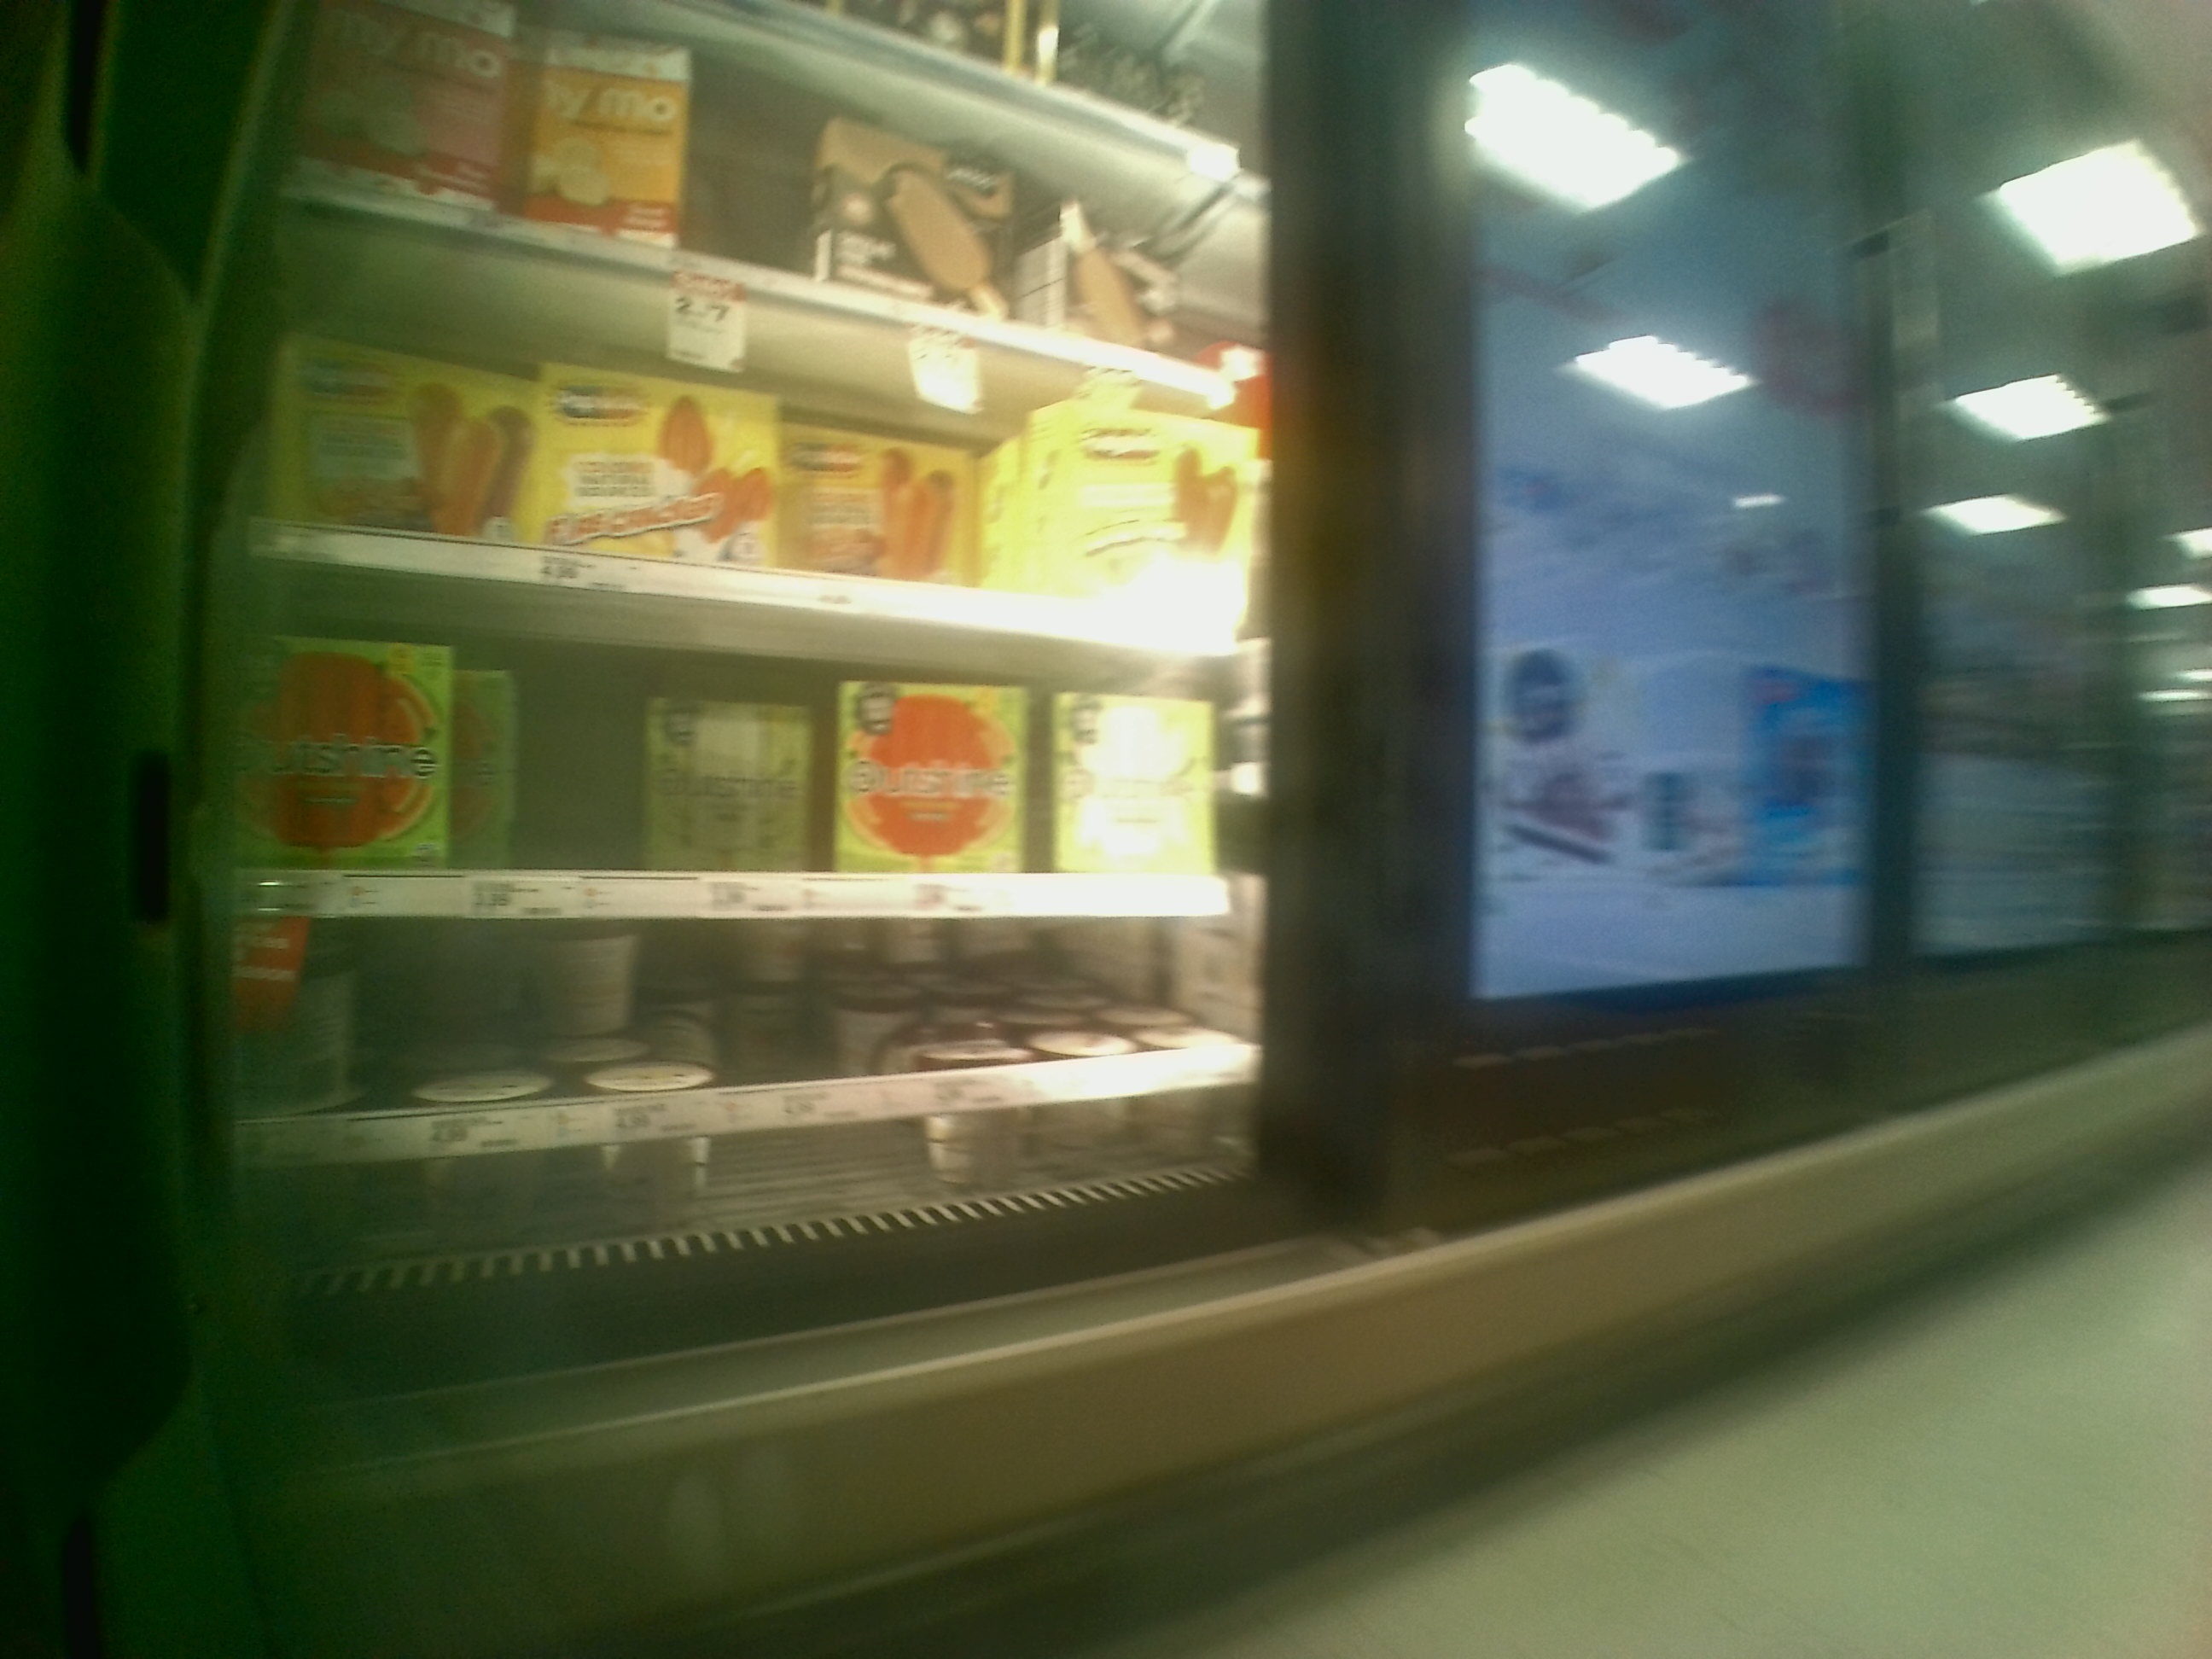shelf: (261, 179, 1258, 648), (254, 561, 1249, 922), (256, 908, 1254, 1220)
